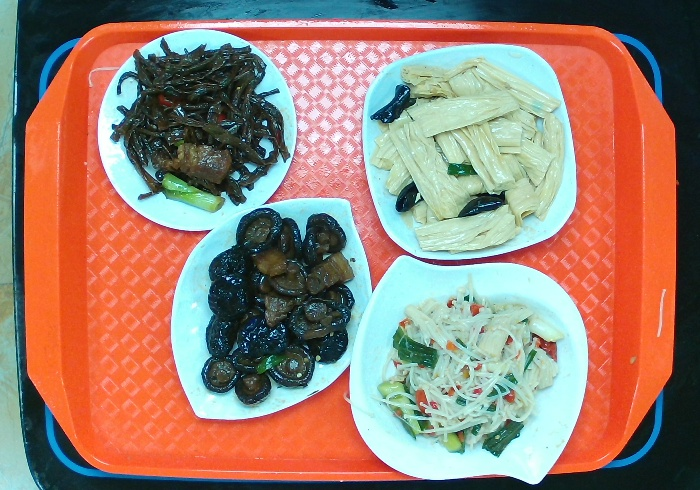RJxy-Da_Du_Pan: (169, 191, 374, 422)
RJxy-Shuang_Jiao_Pan: (347, 253, 590, 490)
RJxy-Si_Fang_Wan: (360, 41, 581, 263)
RJxy-Xiao_Yuan_Die: (93, 28, 302, 233)
